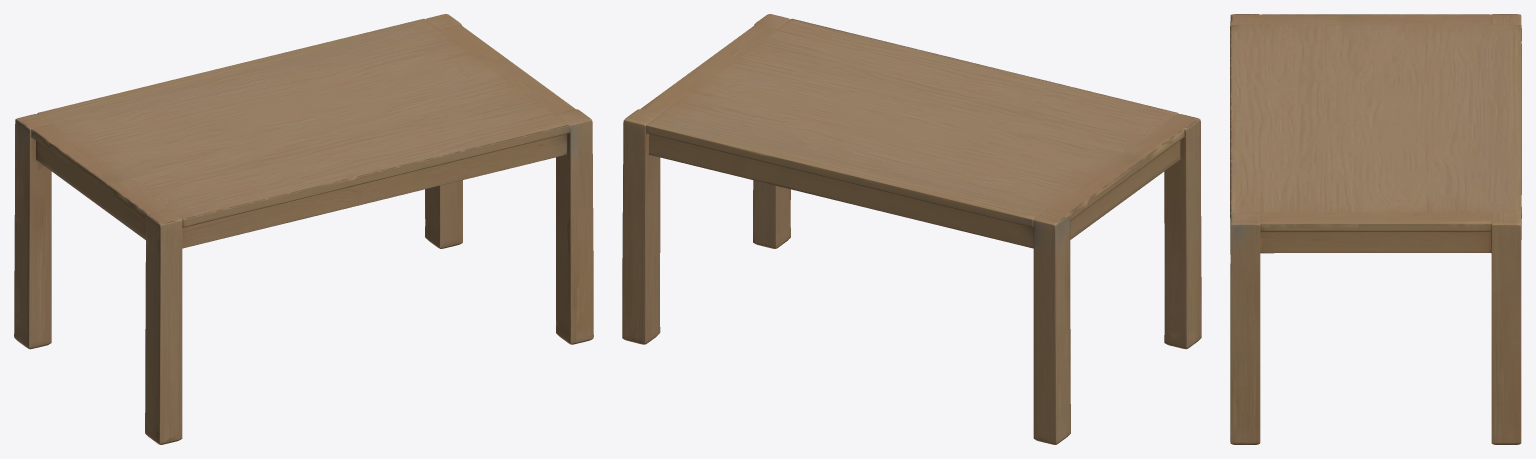
3 views of the same model, side by side, from view 1: azimuth 30°, elevation 25°; view 2: azimuth 150°, elevation 25°; view 3: azimuth 270°, elevation 25° (orthographic).
Visible parts, largest first — view 1: material; view 2: material; view 3: material.
Part boxes in pixels (x1=…): material: x1=14, y1=14, x2=593, y2=444; material: x1=622, y1=14, x2=1201, y2=444; material: x1=1230, y1=14, x2=1521, y2=444.
Bounding box in the file's own units: 0.9598 × 0.467 × 0.5588.
1 material, 1 textured.
